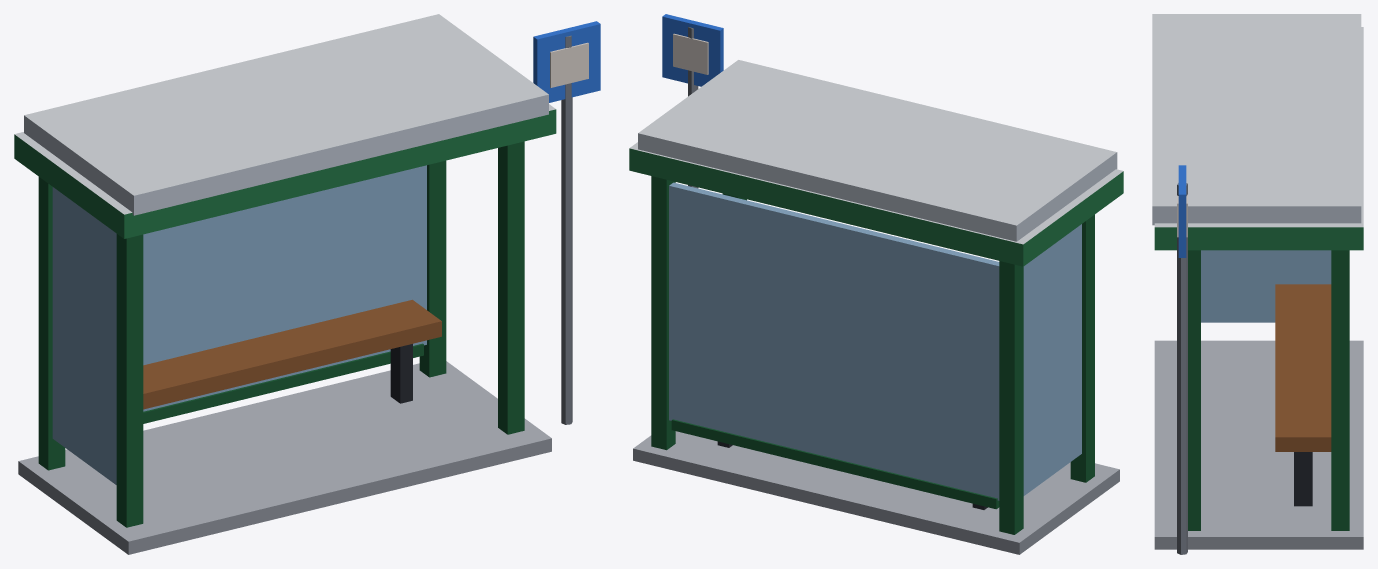
Rendered from BusStop.glb.
The picture shows the model from 3 angles, left to right: view 1: azimuth 30°, elevation 25°; view 2: azimuth 150°, elevation 25°; view 3: azimuth 270°, elevation 25°; orthographic projection. The views are drawn at different scales.
Visible parts, largest first — view 1: BusStop_Shelter, BusStop_Glass; view 2: BusStop_Shelter, BusStop_Glass; view 3: BusStop_Shelter, BusStop_Glass.
Part boxes in pixels (left/top/right/bottom): BusStop_Shelter: left=14, top=14, right=600, bottom=554; BusStop_Glass: left=52, top=165, right=426, bottom=484; BusStop_Shelter: left=629, top=14, right=1123, bottom=554; BusStop_Glass: left=669, top=182, right=1081, bottom=500; BusStop_Shelter: left=1152, top=14, right=1363, bottom=554; BusStop_Glass: left=1201, top=250, right=1331, bottom=322.
Size of the model in its own units: 11.55 by 9.1 by 4.55.
